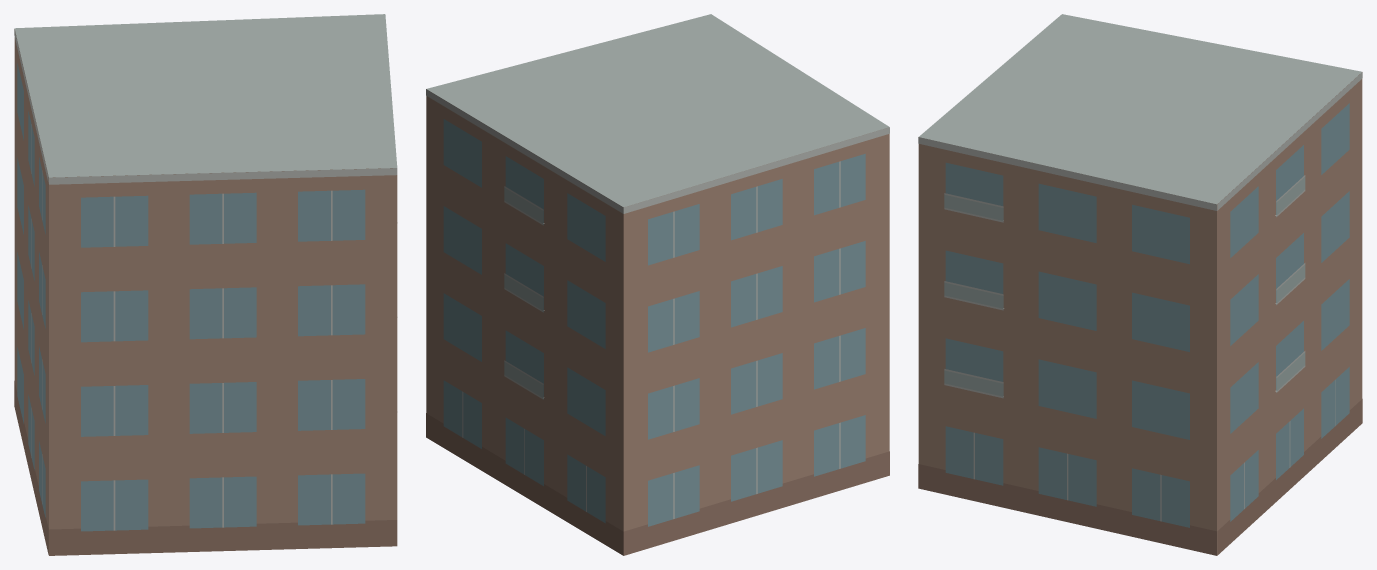
Rendered from survey-upis-32852768.glb.
3 views of the same model, side by side, from view 1: azimuth 30°, elevation 25°; view 2: azimuth 150°, elevation 25°; view 3: azimuth 270°, elevation 25° (orthographic). The views are drawn at different scales.
Visible parts, largest first — view 1: survey-upis-32852768.tmp; view 2: survey-upis-32852768.tmp; view 3: survey-upis-32852768.tmp.
Part boxes in pixels (box(x1,y1,x2,y2)): survey-upis-32852768.tmp: box(14, 14, 397, 555); survey-upis-32852768.tmp: box(426, 14, 889, 555); survey-upis-32852768.tmp: box(918, 14, 1362, 555).
Size of the model in its own units: 14.88 by 12.8 by 14.66.
